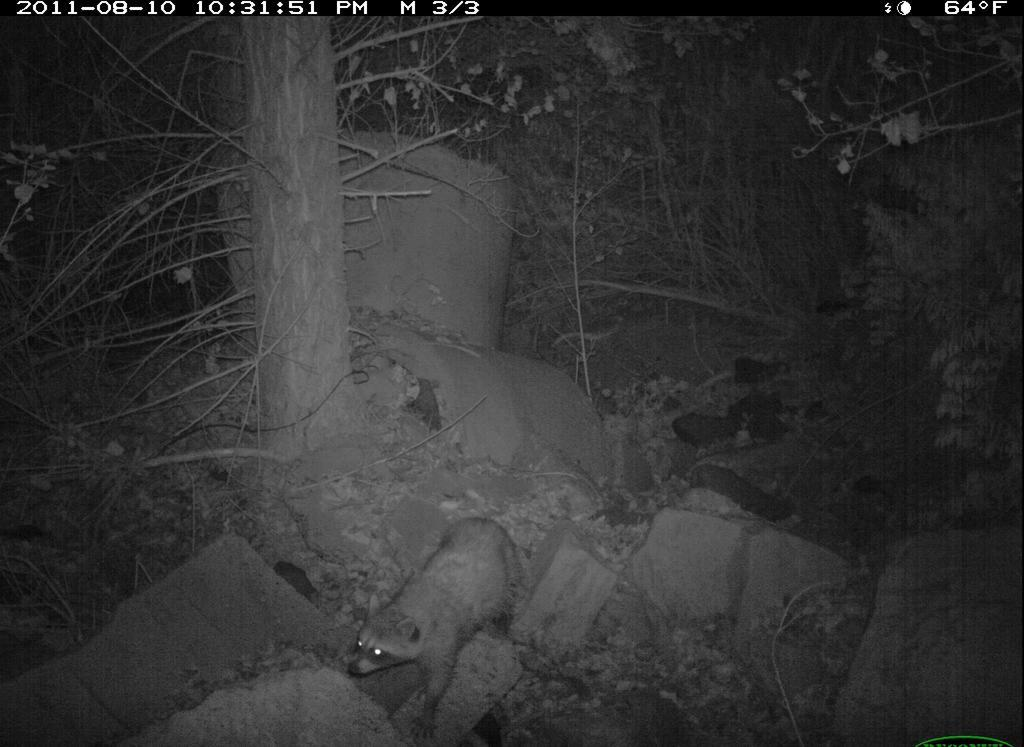raccoon: (338, 510, 525, 747)
